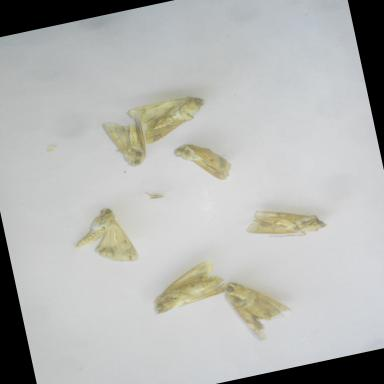abw: (216, 269, 300, 350), (63, 200, 144, 276), (141, 255, 234, 320), (238, 191, 334, 252), (124, 88, 216, 151), (166, 132, 238, 194), (95, 110, 156, 177)
